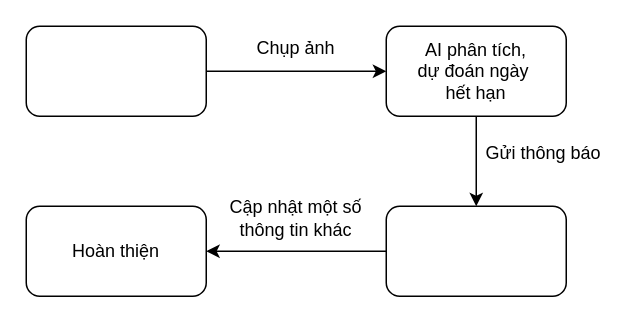
This 630x323 diagram has some shape labels left out. The shapes that lost their labels are listed below. From the top down, each one's centre as x and y in pixels, then its label:
At [115,70]: "Nhấn nút thiết bị".
At [475,250]: "Ứng dụng mobile".
